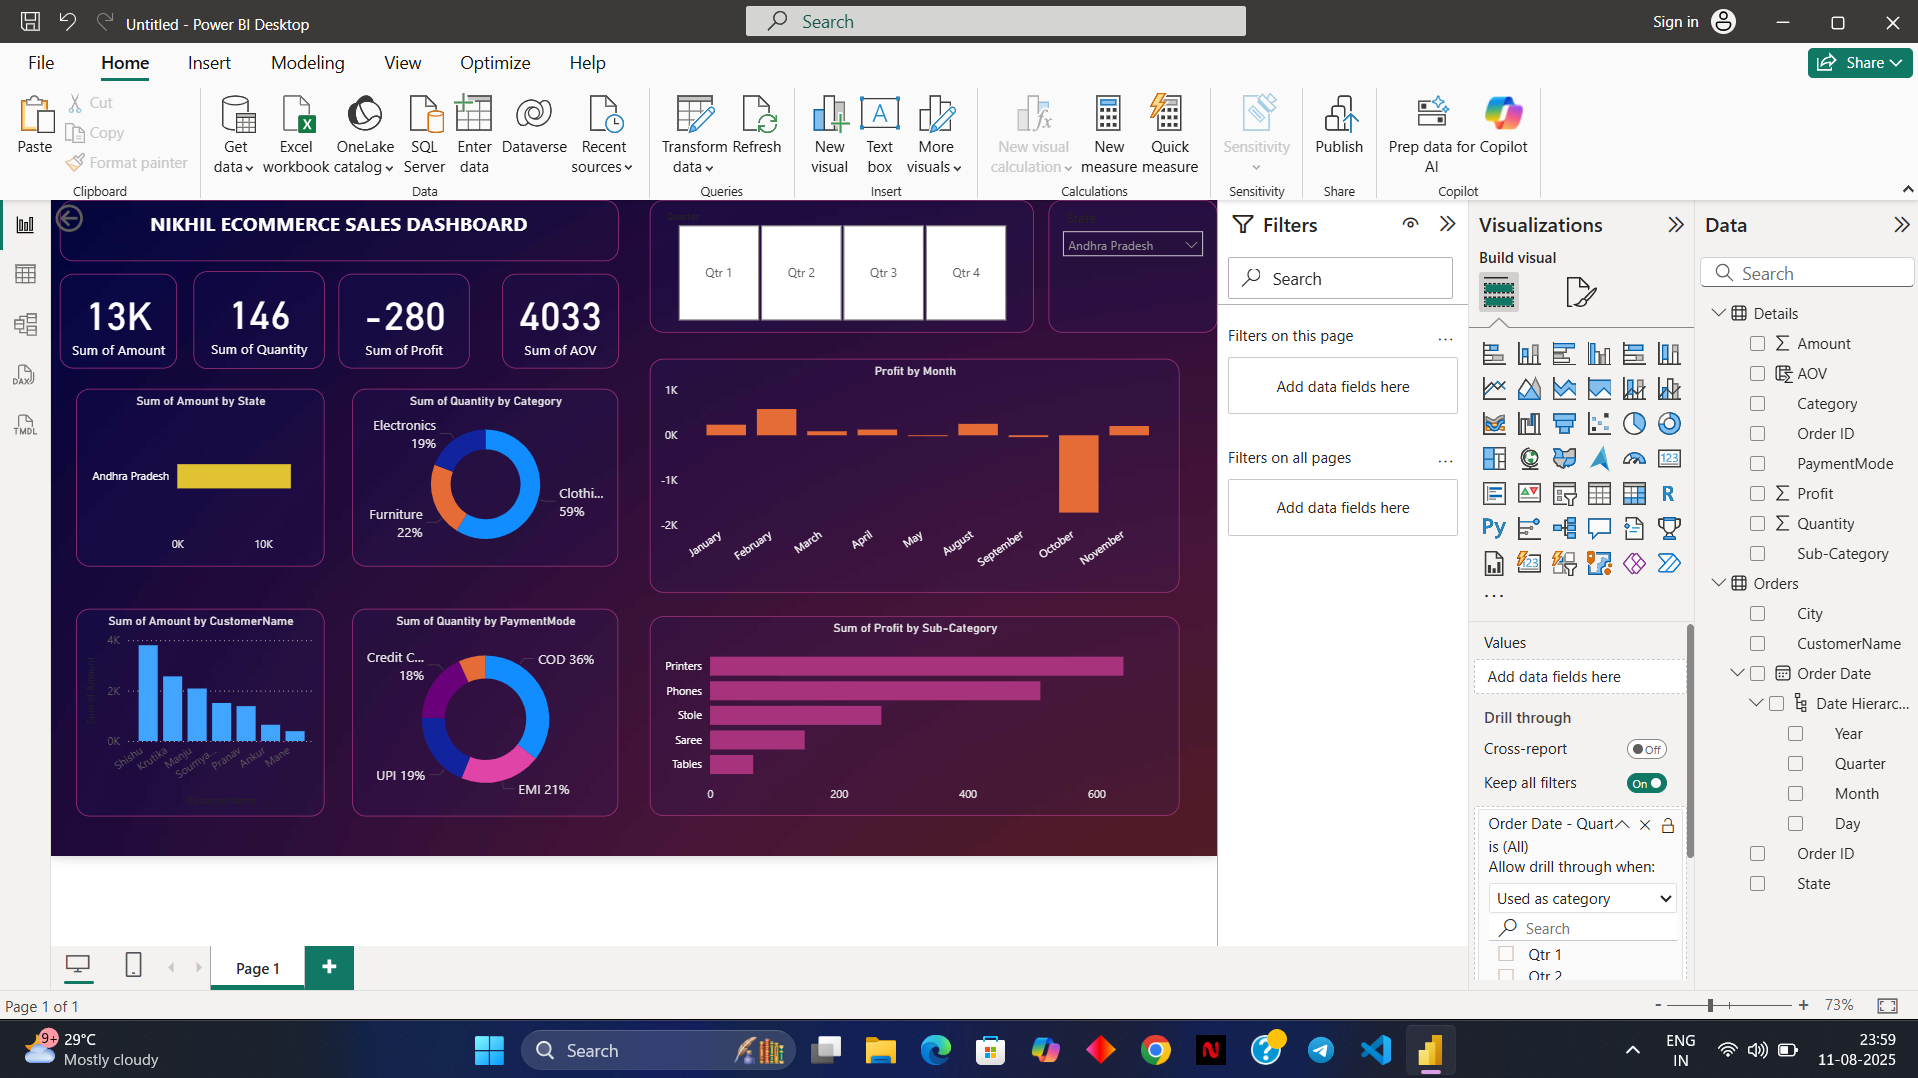

This screenshot's page, from the dashboard's own definition file:
{"tool":"powerbi","page":{"name":"Page 1","canvas":[1280,720],"ordinal":0},"visuals":[{"type":"textbox","box":[9.6,0,613.4,67.2],"z":0},{"type":"columnChart","title":"Profit by Month","fields":{"Category":["Orders.Order Date.Variation.Date Hierarchy.Month"],"Y":["Details.Profit"]},"box":[657.3,174.3,581.8,256.6],"z":1},{"type":"barChart","fields":{"Category":["Details.Sub-Category"],"Y":["Details.Profit"]},"box":[657.3,456.9,581.8,219.6],"z":2},{"type":"donutChart","fields":{"Category":["Details.Category"],"Y":["Details.Quantity"]},"box":[330.7,207.2,292.3,194.9],"z":3},{"type":"donutChart","fields":{"Y":["Details.Quantity"],"Category":["Details.PaymentMode"]},"box":[330.7,448.7,292.3,227.8],"z":4},{"type":"card","fields":{"Values":["Details.Amount"]},"box":[9.6,81,129,104.3],"z":5},{"type":"card","fields":{"Values":["Details.Quantity"]},"box":[156.4,78.2,144.1,107],"z":6},{"type":"card","fields":{"Values":["Details.Profit"]},"box":[315.6,81,144.1,104.3],"z":7},{"type":"card","fields":{"Values":["Details.AOV"]},"box":[495.4,81,127.6,104.3],"z":8},{"type":"barChart","fields":{"Category":["Orders.State"],"Y":["Details.Amount"]},"box":[27.4,207.2,273.1,194.9],"z":9},{"type":"columnChart","fields":{"Category":["Orders.CustomerName"],"Y":["Details.Amount"]},"box":[27.4,448.7,273.1,227.8],"z":10},{"type":"actionButton","box":[0,0,100,40],"z":12},{"type":"slicer","fields":{"Values":["Orders.Order Date.Variation.Date Hierarchy.Quarter"]},"box":[657.3,0,421.3,145.5],"z":13},{"type":"slicer","fields":{"Values":["Orders.State"]},"box":[1095,0,185.2,145.5],"z":14}]}

Visuals, with their boxes on the page's 1280x720 design canvas (x1, y1, x2, y2). These are canvas units, not pixel positions in the 1918x1078 screenshot, which may show the page scaled, cropped or inside an application window:
textbox: [10, 0, 623, 67]
"Profit by Month" columnChart: [657, 174, 1239, 431]
barChart - Details.Sub-Category x Details.Profit: [657, 457, 1239, 676]
donutChart - Details.Category x Details.Quantity: [331, 207, 623, 402]
donutChart - Details.Quantity x Details.PaymentMode: [331, 449, 623, 676]
card - Details.Amount: [10, 81, 139, 185]
card - Details.Quantity: [156, 78, 300, 185]
card - Details.Profit: [316, 81, 460, 185]
card - Details.AOV: [495, 81, 623, 185]
barChart - Orders.State x Details.Amount: [27, 207, 300, 402]
columnChart - Orders.CustomerName x Details.Amount: [27, 449, 300, 676]
actionButton: [0, 0, 100, 40]
slicer - Orders.Order Date.Variation.Date Hierarchy.Quarter: [657, 0, 1079, 146]
slicer - Orders.State: [1095, 0, 1280, 146]
